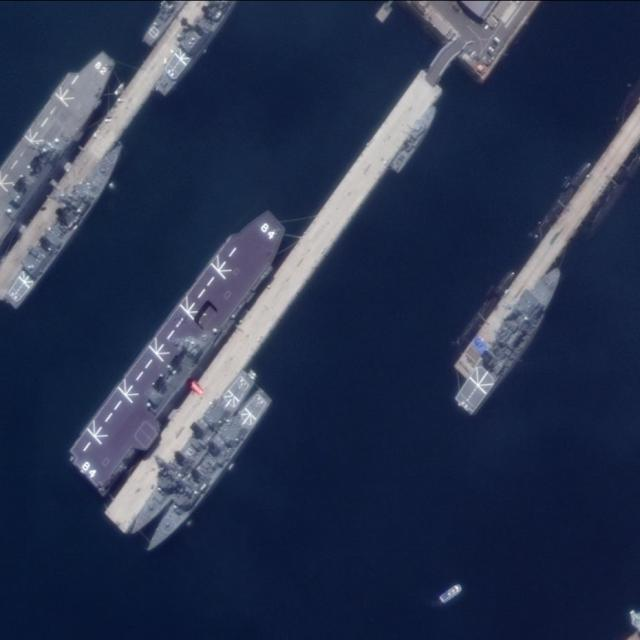Destroyer: (61, 202, 301, 495), (131, 381, 278, 561), (125, 365, 260, 544), (1, 134, 133, 311)
Dock: (100, 43, 463, 532)
Other Warship: (388, 105, 442, 175)
Submarine: (530, 160, 593, 242), (454, 268, 517, 346)
